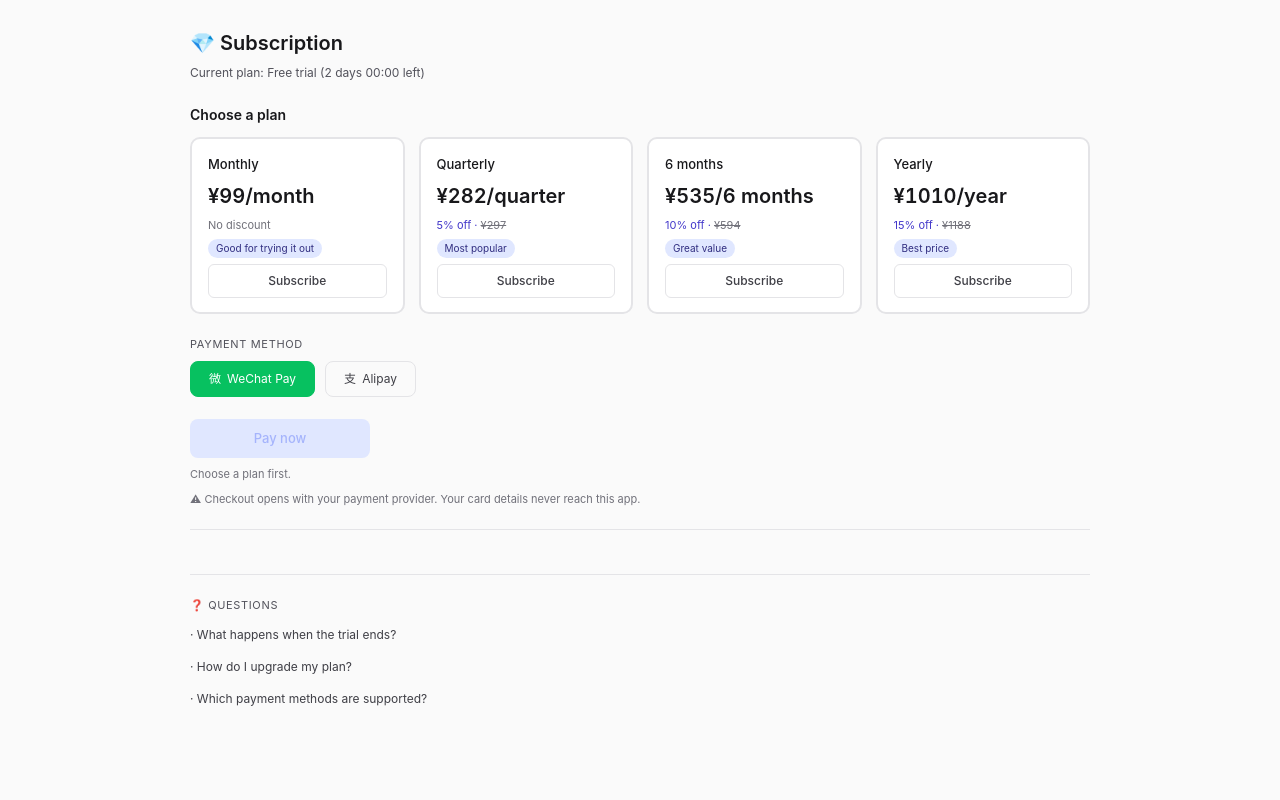
Test case: paying › waits for the service rather than asking the user whether they paid
The width and height of the screenshot is (1280, 800).
Click the 1st button "Subscribe". click: (297, 281)
box: [208,264,386,298]
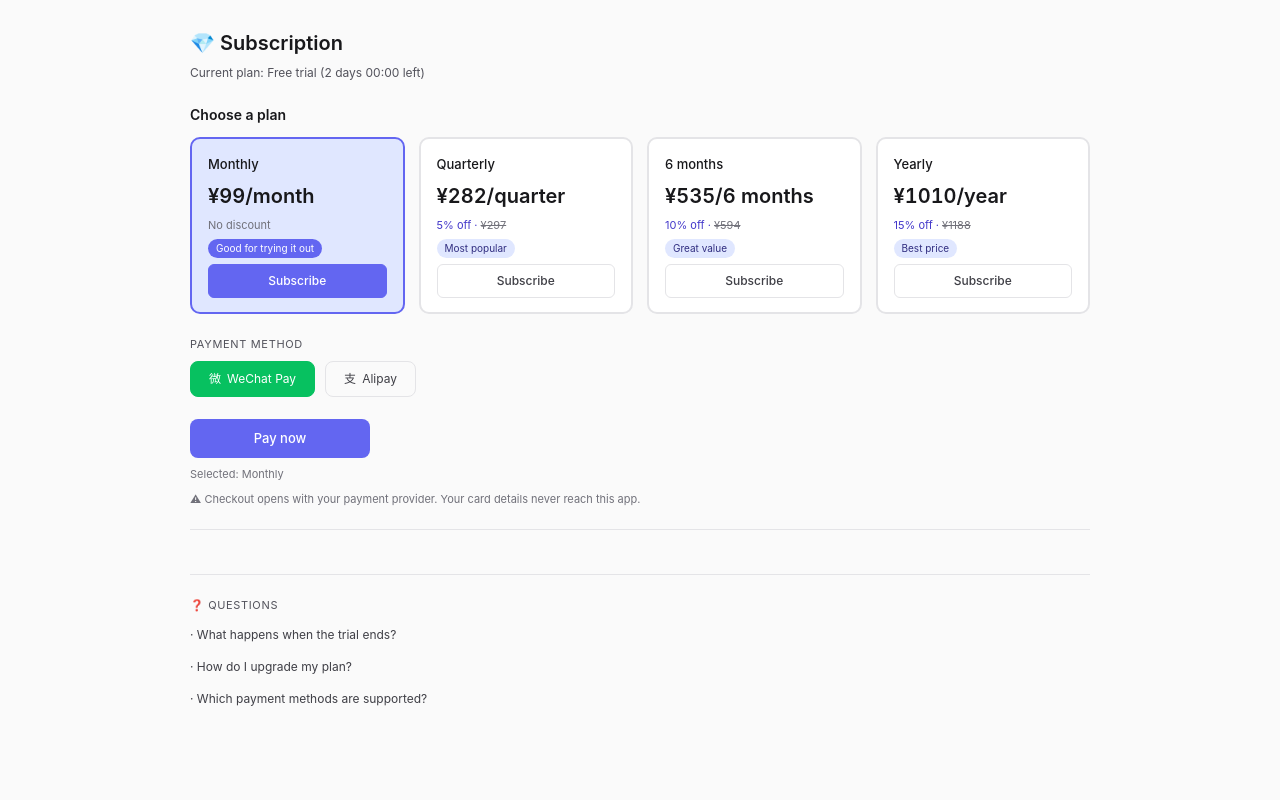
Click the button with test id "pay-now". click: (280, 438)
box: [190,418,370,458]
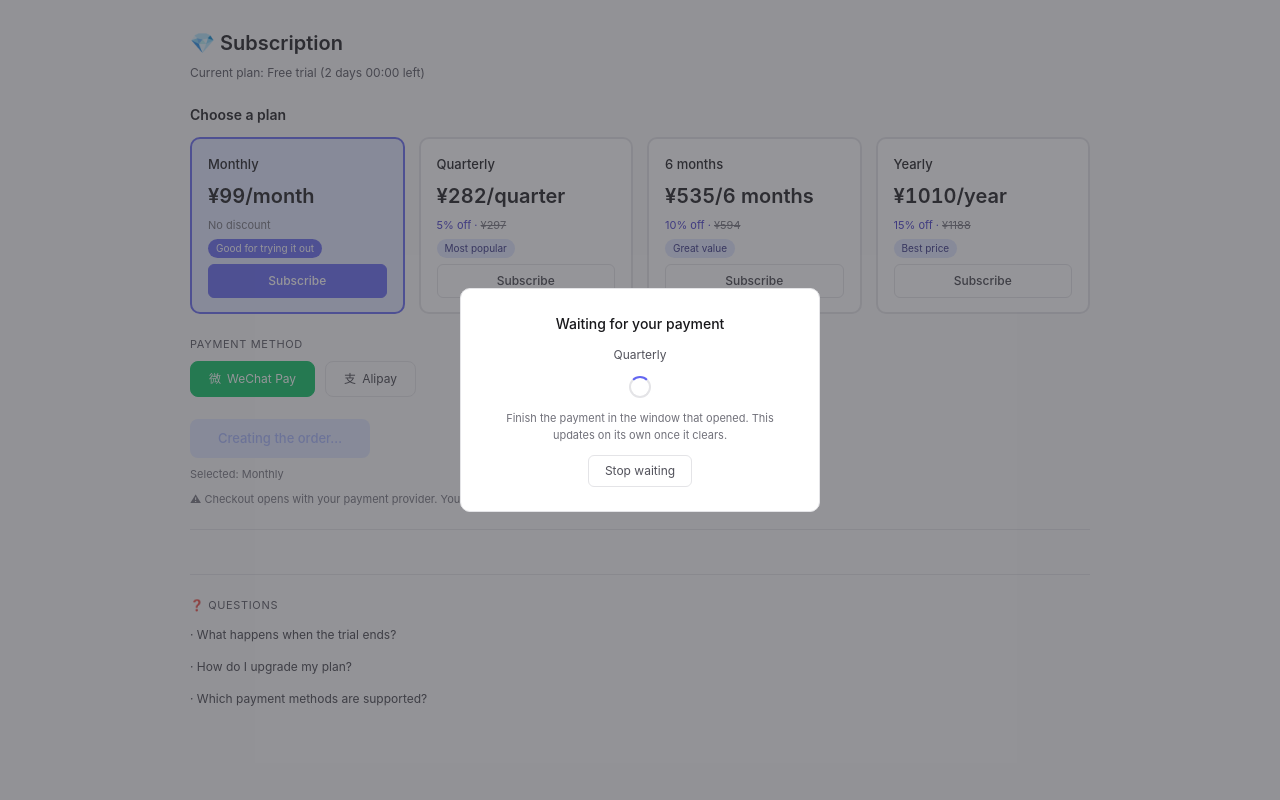
Check: the dialog with test id "payment-dialog" is shown
